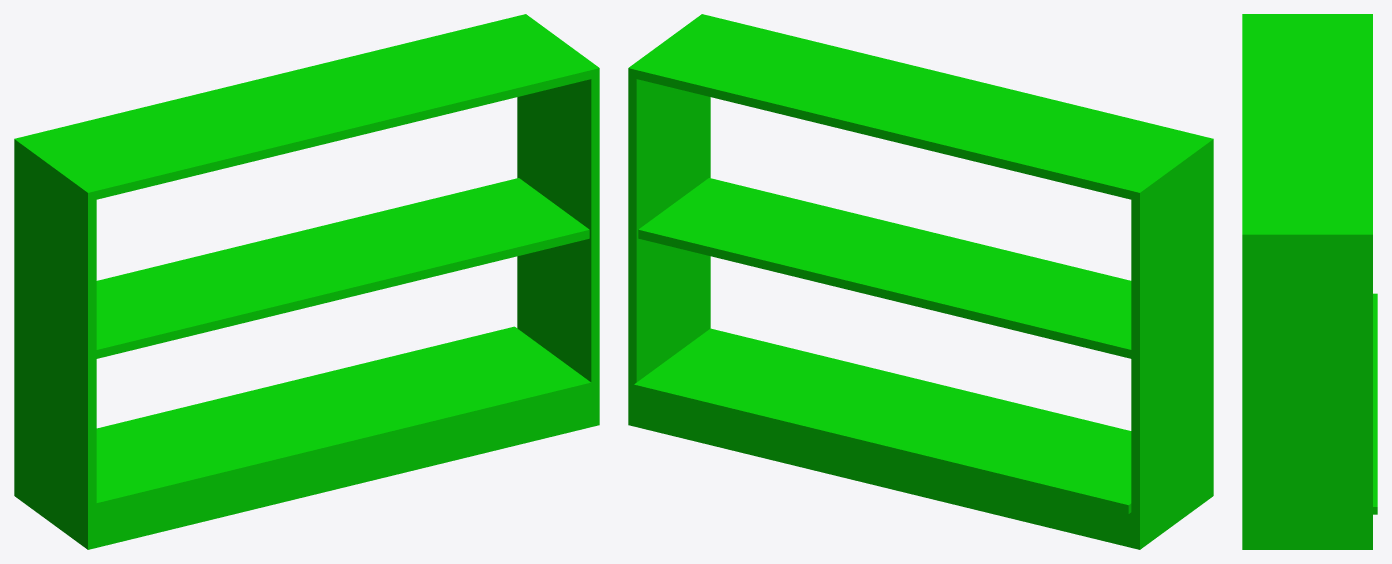
File: classroomBookshelf.fbx
The picture shows the model from 3 angles, left to right: view 1: azimuth 30°, elevation 25°; view 2: azimuth 150°, elevation 25°; view 3: azimuth 270°, elevation 25°; orthographic projection. The views are drawn at different scales.
Visible parts, largest first — view 1: classroomBookshelf; view 2: classroomBookshelf; view 3: classroomBookshelf.
Boxes of the visible parts, left/top/right/bottom form: classroomBookshelf: left=14, top=14, right=599, bottom=549; classroomBookshelf: left=628, top=14, right=1213, bottom=549; classroomBookshelf: left=1242, top=14, right=1377, bottom=549.
Bounding box in the file's own units: 120 × 80 × 31.1.
